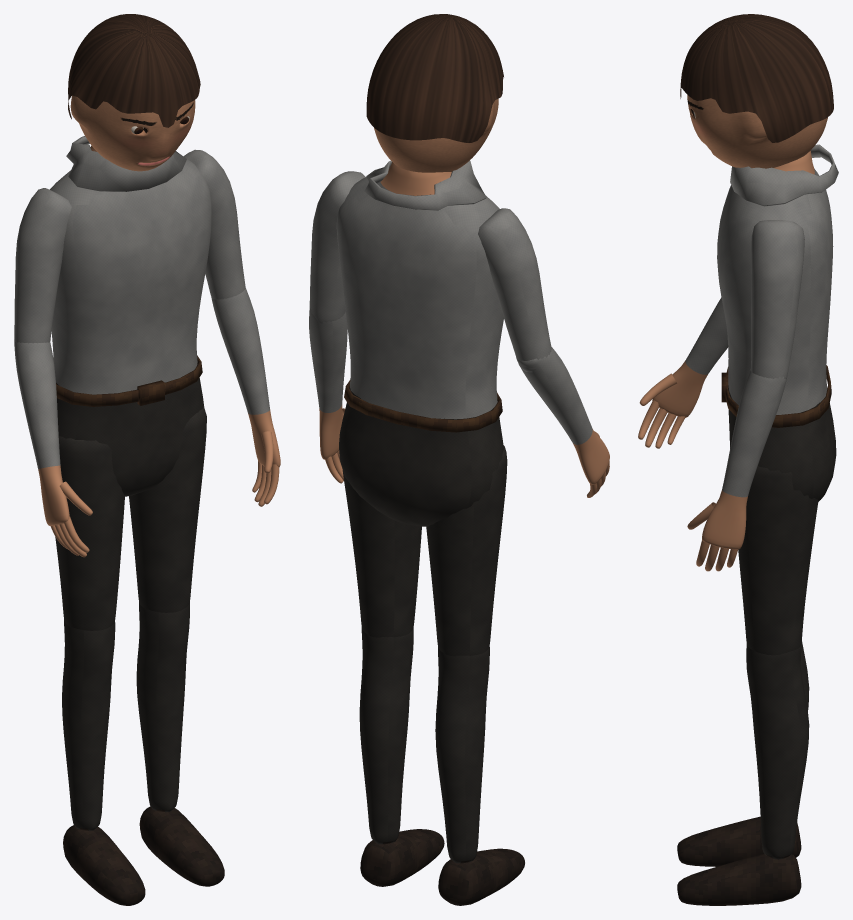
Rendered from persona_nino_c.obj.
3 renders of one model, left to right at view 1: azimuth 30°, elevation 25°; view 2: azimuth 150°, elevation 25°; view 3: azimuth 270°, elevation 25°, orthographic.
Visible parts, largest first — view 1: Torso, PiernaIzq, PiernaDer, Pelo, MusloDer, MusloIzq, AntebrazoDer, BrazoDer, AntebrazoIzq, Cabeza, BrazoIzq, Cuello (+1 smaller); view 2: Torso, Pelo, PiernaDer, PiernaIzq, MusloDer, MusloIzq, BrazoDer, AntebrazoDer, AntebrazoIzq, BrazoIzq, Cabeza, Cuello (+1 smaller); view 3: Torso, PiernaIzq, Pelo, MusloIzq, BrazoIzq, AntebrazoIzq, Cabeza, AntebrazoDer, PiernaDer, Cuello, Cinturon.
Part boxes in pixels (box(x1,y1,x2,y2)): Torso: box(49, 145, 211, 496); PiernaIzq: box(136, 602, 224, 886); PiernaDer: box(62, 620, 145, 905); Pelo: box(68, 14, 200, 127); MusloDer: box(55, 436, 124, 630); MusloIzq: box(129, 406, 206, 612); AntebrazoDer: box(14, 339, 92, 557); BrazoDer: box(14, 188, 71, 343); AntebrazoIzq: box(211, 288, 280, 506); Cabeza: box(70, 95, 195, 171); BrazoIzq: box(183, 149, 245, 299); Cuello: box(66, 136, 186, 191); Torso: box(336, 162, 503, 526); Pelo: box(366, 14, 503, 142); PiernaDer: box(435, 646, 524, 905); PiernaIzq: box(359, 627, 444, 886); MusloDer: box(426, 445, 507, 656); MusloIzq: box(342, 470, 421, 637); BrazoDer: box(478, 208, 551, 372); AntebrazoDer: box(516, 347, 609, 497); AntebrazoIzq: box(309, 306, 347, 483); BrazoIzq: box(309, 171, 365, 323); Cabeza: box(374, 98, 498, 172); Cuello: box(364, 160, 486, 210); Torso: box(717, 151, 836, 501); PiernaIzq: box(677, 644, 809, 905); Pelo: box(680, 14, 833, 142); MusloIzq: box(738, 465, 818, 655); BrazoIzq: box(750, 220, 804, 379); AntebrazoIzq: box(687, 371, 786, 571); Cabeza: box(687, 95, 827, 168); AntebrazoDer: box(638, 297, 728, 448); PiernaDer: box(677, 640, 809, 866); Cuello: box(730, 144, 838, 206); Cinturon: box(721, 365, 831, 427).
Bounding box in the file's own units: 0.3634 × 1.19 × 0.2514.
12 materials, 12 textured.
